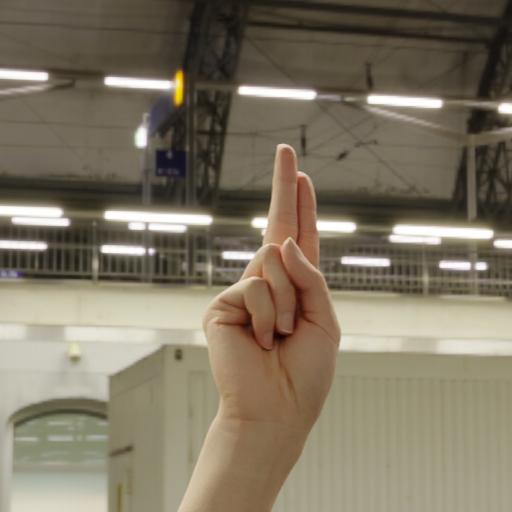U: (196, 140, 358, 461)
